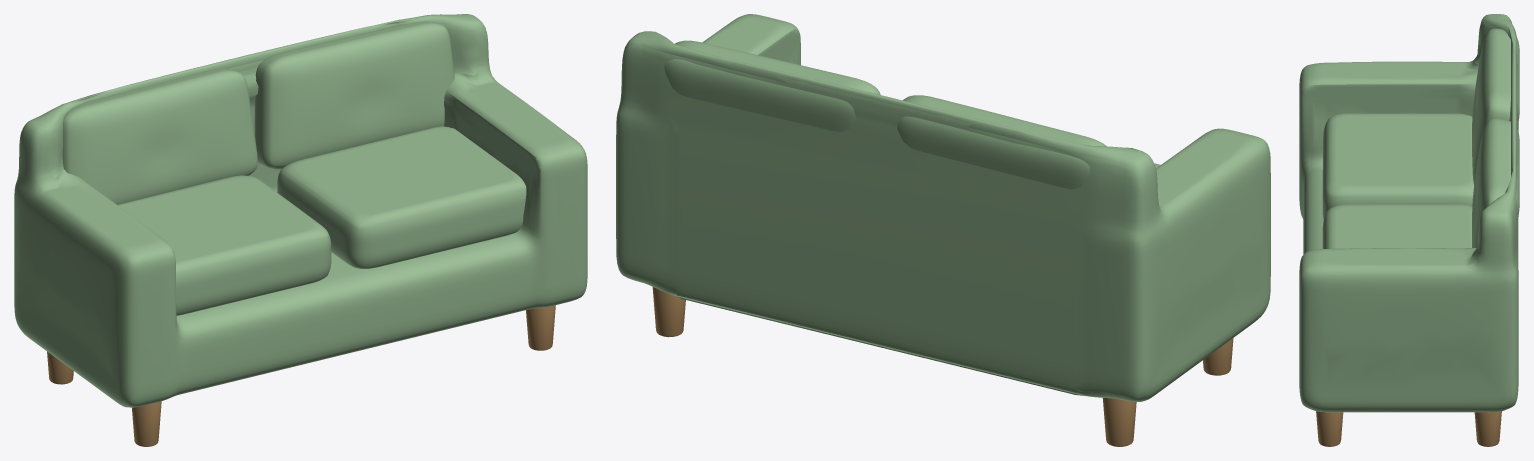
The model's file is mint-sofa-v1.glb.
3 renders of one model, left to right at view 1: azimuth 30°, elevation 25°; view 2: azimuth 150°, elevation 25°; view 3: azimuth 270°, elevation 25°, orthographic. The views are drawn at different scales.
Parts seen in each view (by area): view 1: Continuous upholstered frame, Seat cushion 2, Back cushion 2, Back cushion 1, Seat cushion 1, Ash foot +1.04 -0.39, Ash foot -1.04 -0.39, Ash foot -1.04 +0.39; view 2: Continuous upholstered frame, Back cushion 2, Back cushion 1, Ash foot -1.04 +0.39, Ash foot +1.04 +0.39, Ash foot -1.04 -0.39; view 3: Continuous upholstered frame, Seat cushion 1, Seat cushion 2, Back cushion 1, Back cushion 2, Ash foot +1.04 -0.39, Ash foot +1.04 +0.39.
Part boxes in pixels (x1,y1,x2,y2): Continuous upholstered frame: (14, 14, 587, 407); Seat cushion 2: (277, 126, 526, 268); Back cushion 2: (254, 21, 454, 169); Back cushion 1: (62, 68, 257, 204); Seat cushion 1: (117, 175, 331, 315); Ash foot +1.04 -0.39: (526, 305, 555, 350); Ash foot -1.04 -0.39: (132, 401, 161, 446); Ash foot -1.04 +0.39: (47, 351, 73, 384); Continuous upholstered frame: (616, 14, 1270, 401); Back cushion 2: (664, 40, 880, 132); Back cushion 1: (897, 95, 1106, 189); Ash foot -1.04 +0.39: (1102, 398, 1136, 446); Ash foot +1.04 +0.39: (652, 287, 685, 337); Ash foot -1.04 -0.39: (1203, 338, 1233, 375); Continuous upholstered frame: (1299, 14, 1518, 412); Seat cushion 1: (1322, 113, 1473, 219); Seat cushion 2: (1322, 204, 1472, 248); Back cushion 1: (1472, 28, 1519, 185); Back cushion 2: (1472, 118, 1519, 247); Ash foot +1.04 -0.39: (1316, 411, 1343, 446); Ash foot +1.04 +0.39: (1474, 411, 1501, 446).
Size of the model in its own units: 2.48 by 1.34 by 1.08.
